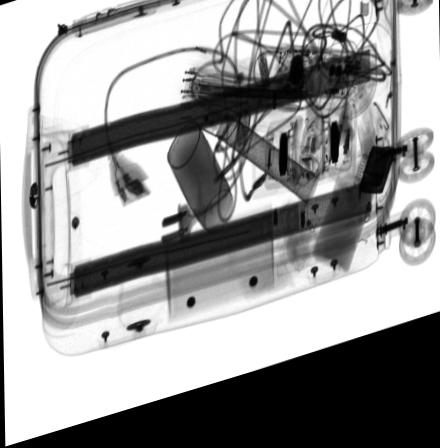Lighter: (357, 166, 394, 215)
